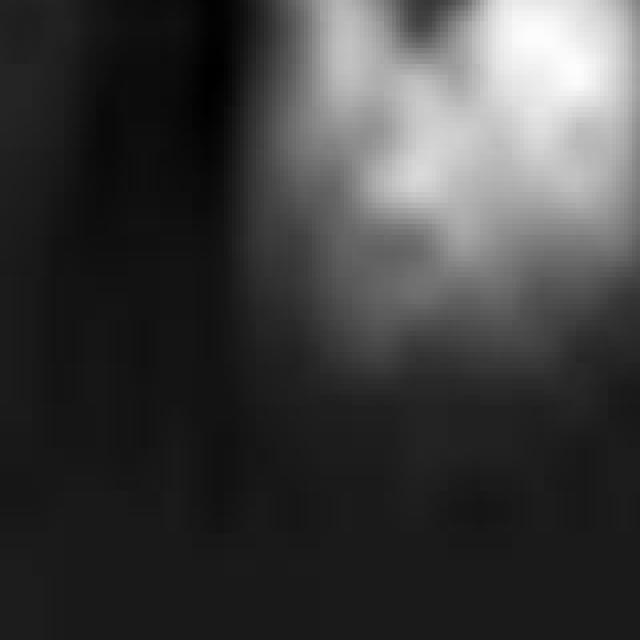person: (457, 1, 640, 534), (261, 1, 445, 385)
